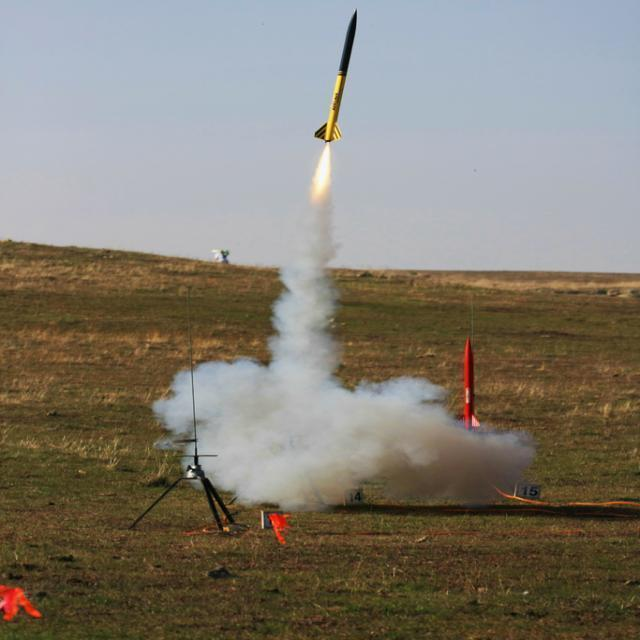missile: (324, 10, 358, 145)
